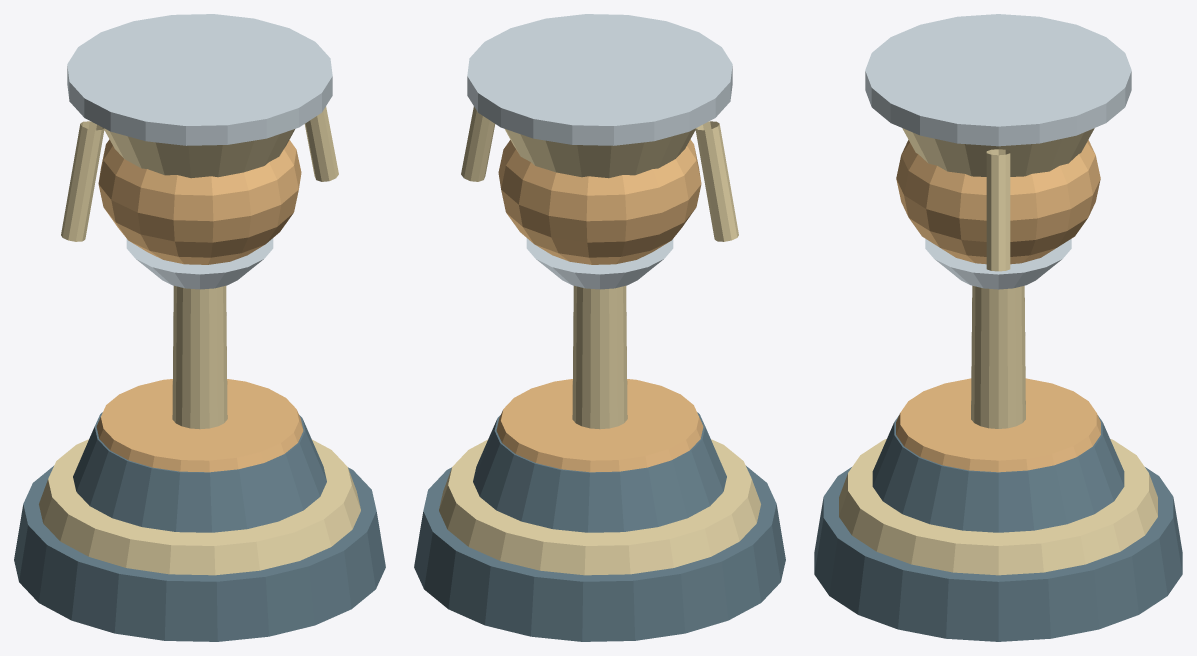
Rendered from cocktail-party.glb.
3 views of the same model, side by side, from view 1: azimuth 30°, elevation 25°; view 2: azimuth 150°, elevation 25°; view 3: azimuth 270°, elevation 25° (orthographic).
Bounding box in the file's own units: 1.2 × 1.75 × 1.19.
